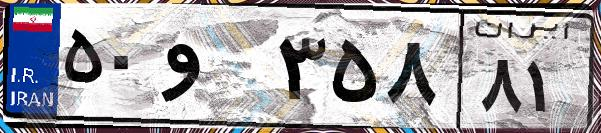0: (110, 28, 158, 98)
1: (525, 38, 570, 115)
3: (270, 28, 330, 110)
5: (330, 28, 385, 110), (57, 26, 110, 100)
8: (385, 28, 445, 110), (475, 38, 525, 113)
و: (158, 20, 270, 120)
